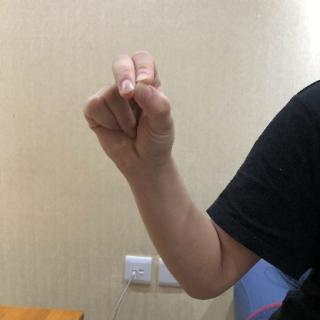QAAF: (78, 48, 180, 174)
